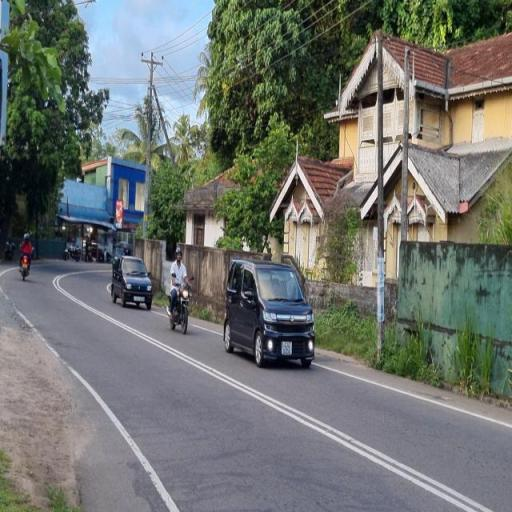double_white_line: (125, 322, 495, 511)
